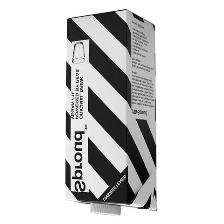carton: (57, 6, 161, 217)
